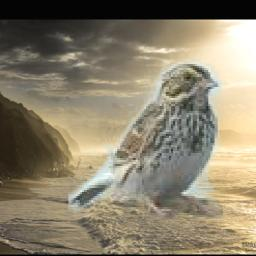Sparrow: (69, 59, 224, 219)
